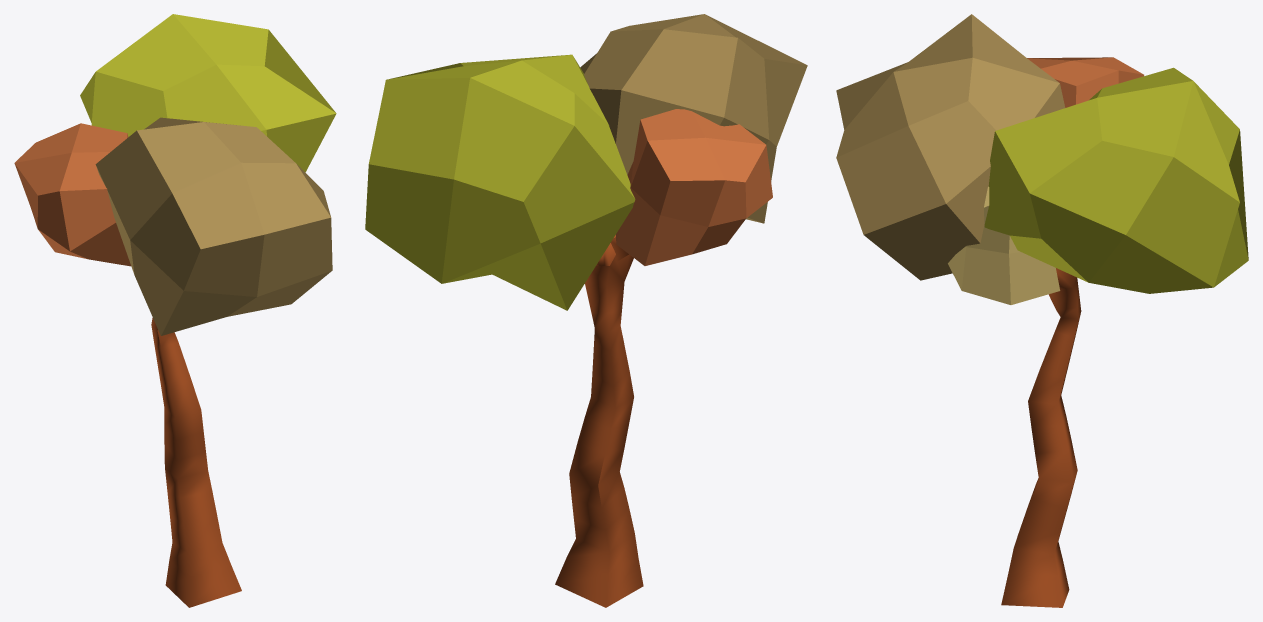
Rendered from arbre_02.fbx.
The picture shows the model from 3 angles, left to right: view 1: azimuth 30°, elevation 25°; view 2: azimuth 150°, elevation 25°; view 3: azimuth 270°, elevation 25°; orthographic projection. The views are drawn at different scales.
Parts seen in each view (by area): view 1: Vert; view 2: Vert; view 3: Vert.
Boxes of the visible parts, x1=… form: Vert: x1=14, y1=14, x2=336, y2=607; Vert: x1=365, y1=14, x2=807, y2=607; Vert: x1=836, y1=14, x2=1248, y2=607.
Size of the model in its own units: 758 by 1314 by 905.
